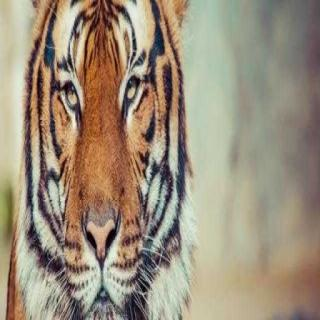Tiger: (5, 0, 194, 320)
